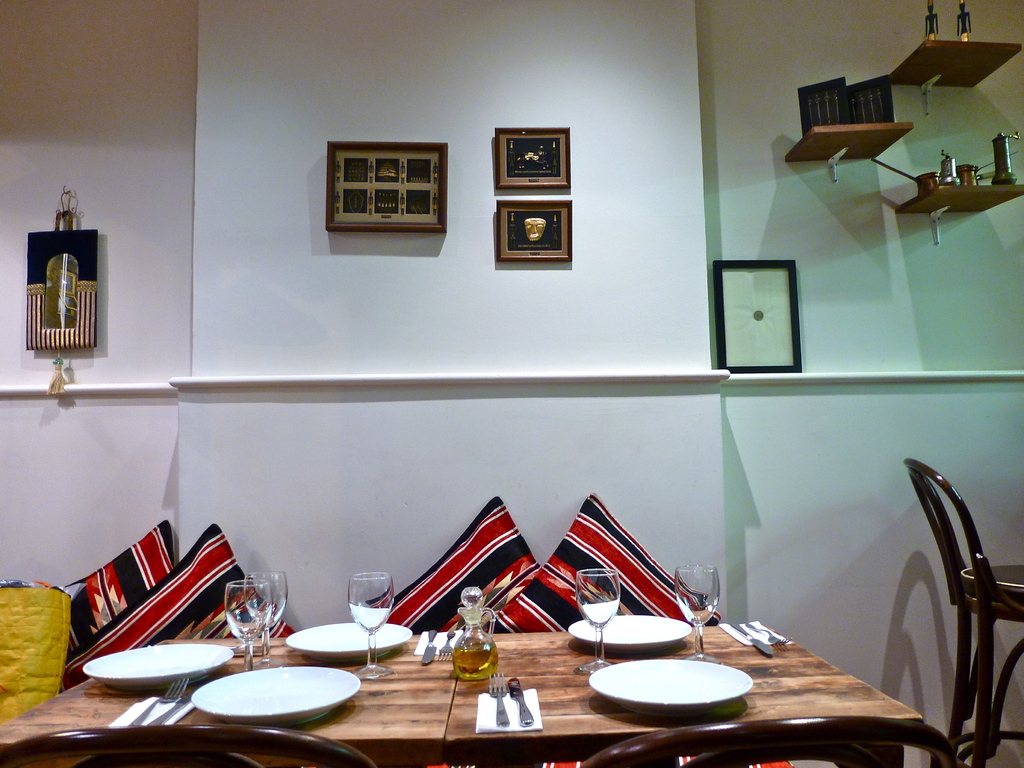Chair: (901, 456, 1023, 767), (586, 717, 961, 765), (0, 730, 378, 767)
